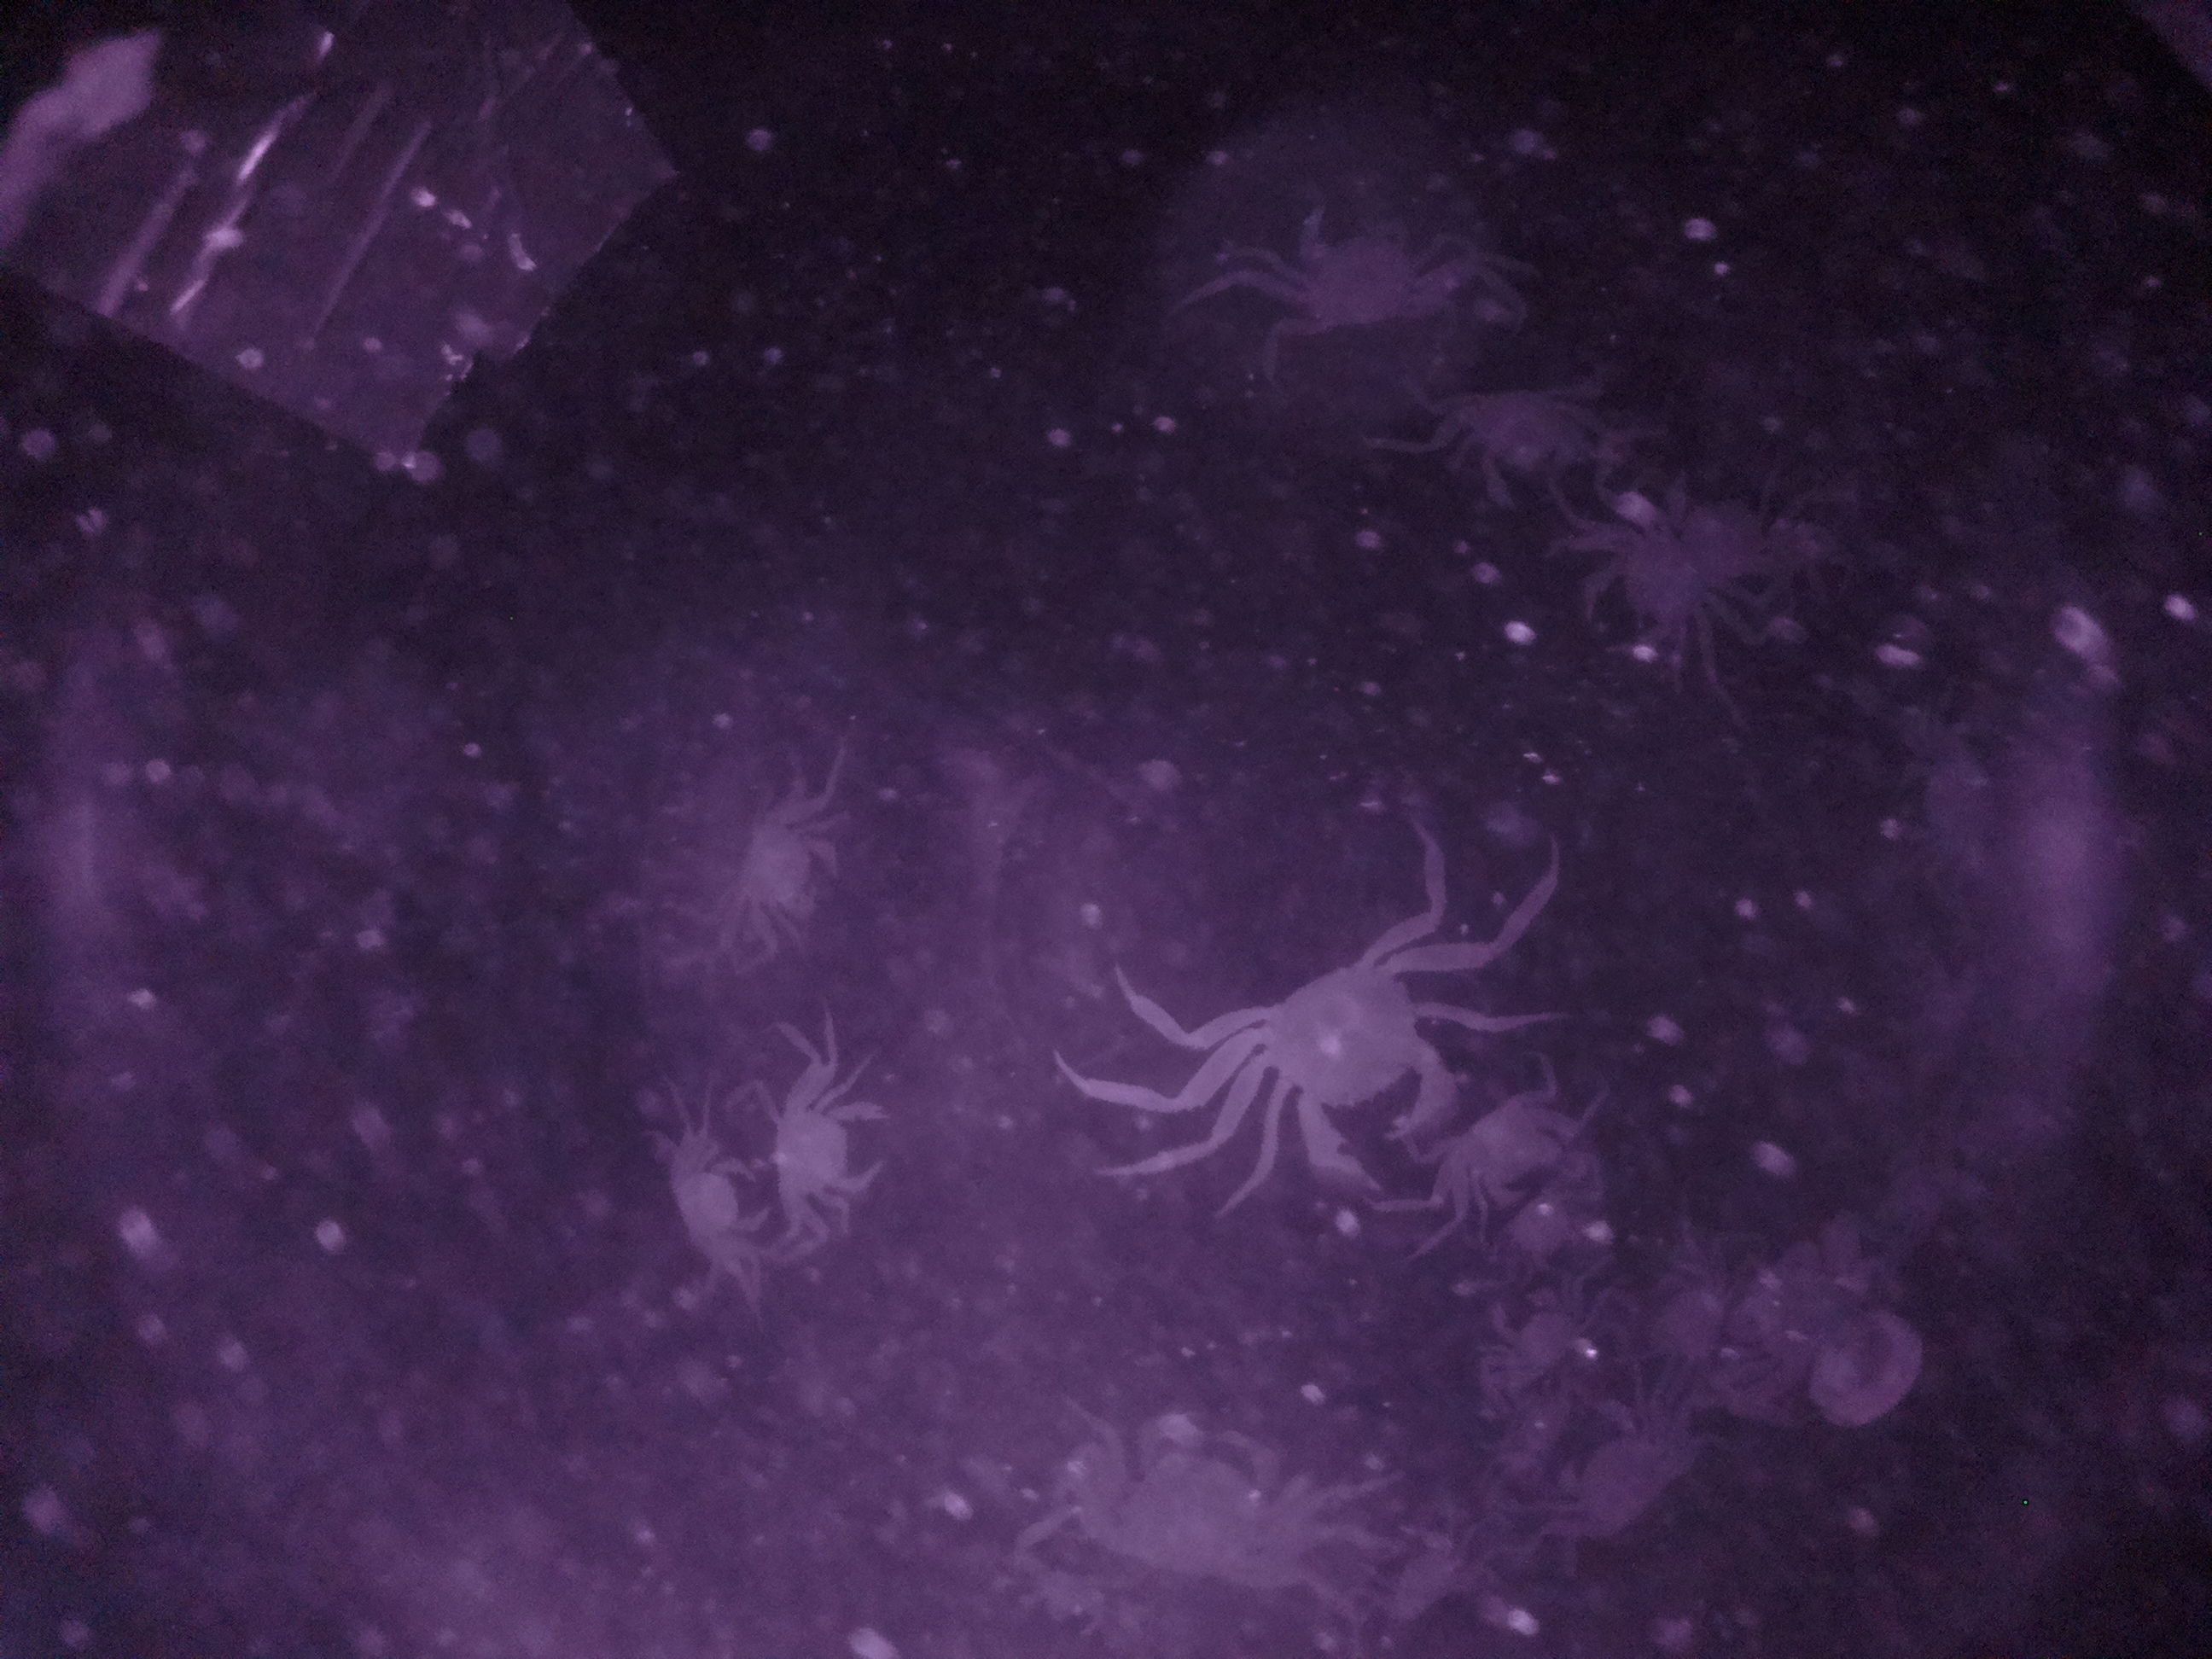Crab: (1162, 920, 1493, 1204), (1529, 1373, 1702, 1561), (1575, 484, 1743, 676), (1430, 1054, 1592, 1244), (1460, 1241, 1613, 1436), (751, 1054, 899, 1255), (723, 755, 850, 981), (653, 1105, 775, 1323)
